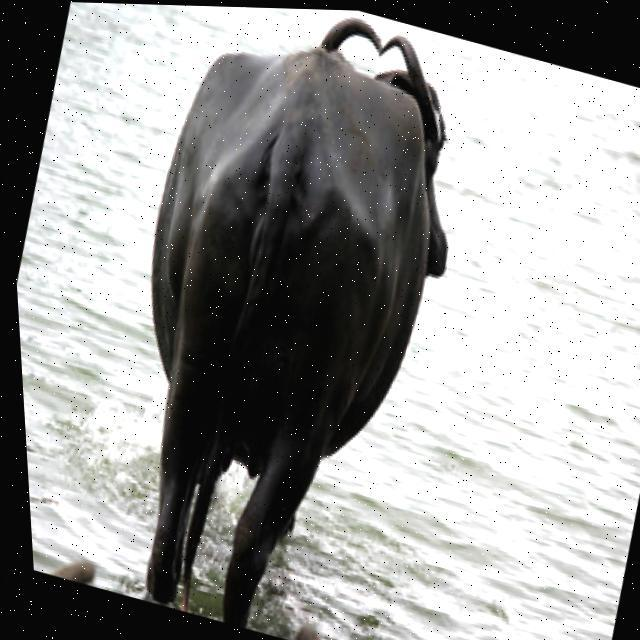Buffalo: (48, 1, 524, 640)
